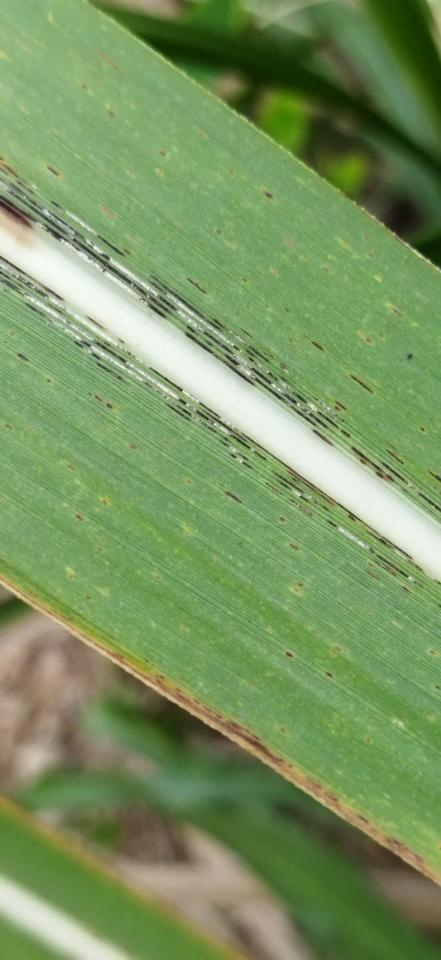Rust: (0, 261, 415, 560), (1, 172, 330, 429), (0, 275, 269, 462), (23, 301, 218, 435), (0, 181, 172, 316), (0, 192, 168, 320), (221, 352, 317, 428), (147, 279, 243, 352), (248, 356, 340, 431), (324, 518, 421, 588), (49, 199, 127, 259), (148, 273, 222, 332), (182, 330, 256, 387), (0, 255, 67, 303), (211, 316, 271, 364), (270, 469, 331, 513), (263, 481, 314, 517), (350, 445, 396, 484), (0, 198, 34, 229), (275, 479, 312, 505), (217, 438, 250, 461), (315, 398, 345, 423), (379, 460, 408, 485), (347, 372, 375, 396), (73, 340, 102, 361), (83, 313, 110, 334), (165, 402, 192, 423), (416, 491, 440, 514), (94, 362, 123, 381), (374, 559, 398, 578), (310, 429, 335, 447), (383, 448, 406, 467), (229, 452, 253, 470), (185, 277, 208, 295), (223, 489, 245, 506), (0, 161, 19, 179), (15, 180, 35, 195), (309, 339, 327, 354), (286, 539, 302, 553), (426, 469, 440, 484), (72, 511, 88, 524), (15, 351, 31, 363), (47, 165, 61, 178), (239, 327, 253, 339), (334, 400, 348, 412), (277, 362, 291, 374), (400, 584, 414, 595), (262, 189, 274, 201), (340, 428, 353, 439), (284, 649, 295, 660), (324, 669, 335, 680), (244, 348, 256, 358), (0, 270, 12, 280), (186, 324, 197, 334), (404, 351, 414, 362), (373, 471, 384, 480), (104, 402, 115, 411), (93, 394, 104, 403), (347, 514, 357, 523), (276, 516, 288, 523), (358, 458, 367, 466), (123, 248, 131, 256), (117, 337, 126, 344), (418, 426, 426, 433), (279, 375, 286, 382), (333, 406, 341, 412)
Yellow: (0, 574, 440, 887)
